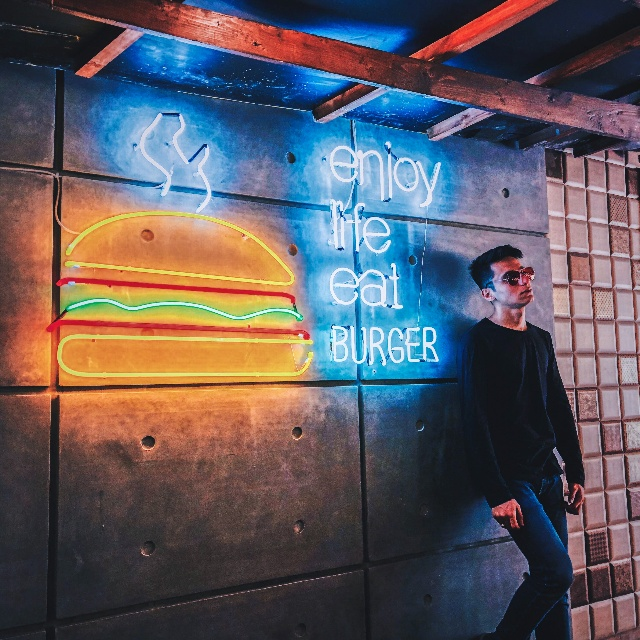Gafas: (485, 266, 534, 288)
Sin_guantes: (491, 499, 525, 531), (564, 482, 585, 516)
